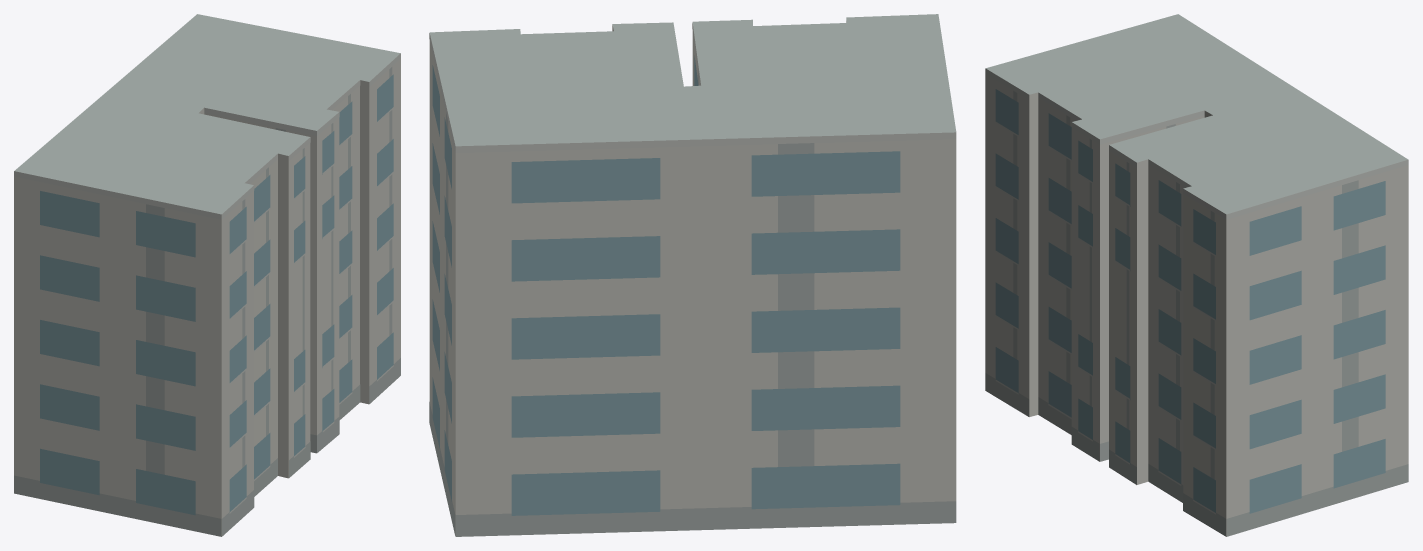
The model's file is survey-upis-32884923.glb.
The picture shows the model from 3 angles, left to right: view 1: azimuth 30°, elevation 25°; view 2: azimuth 150°, elevation 25°; view 3: azimuth 270°, elevation 25°; orthographic projection. The views are drawn at different scales.
Parts seen in each view (by area): view 1: survey-upis-32884923.tmp; view 2: survey-upis-32884923.tmp; view 3: survey-upis-32884923.tmp.
Boxes of the visible parts, x1,y1,x2,y2 form: survey-upis-32884923.tmp: (14, 14, 400, 536); survey-upis-32884923.tmp: (429, 14, 956, 536); survey-upis-32884923.tmp: (985, 14, 1408, 536).
Size of the model in its own units: 18.94 by 14.2 by 16.89.
